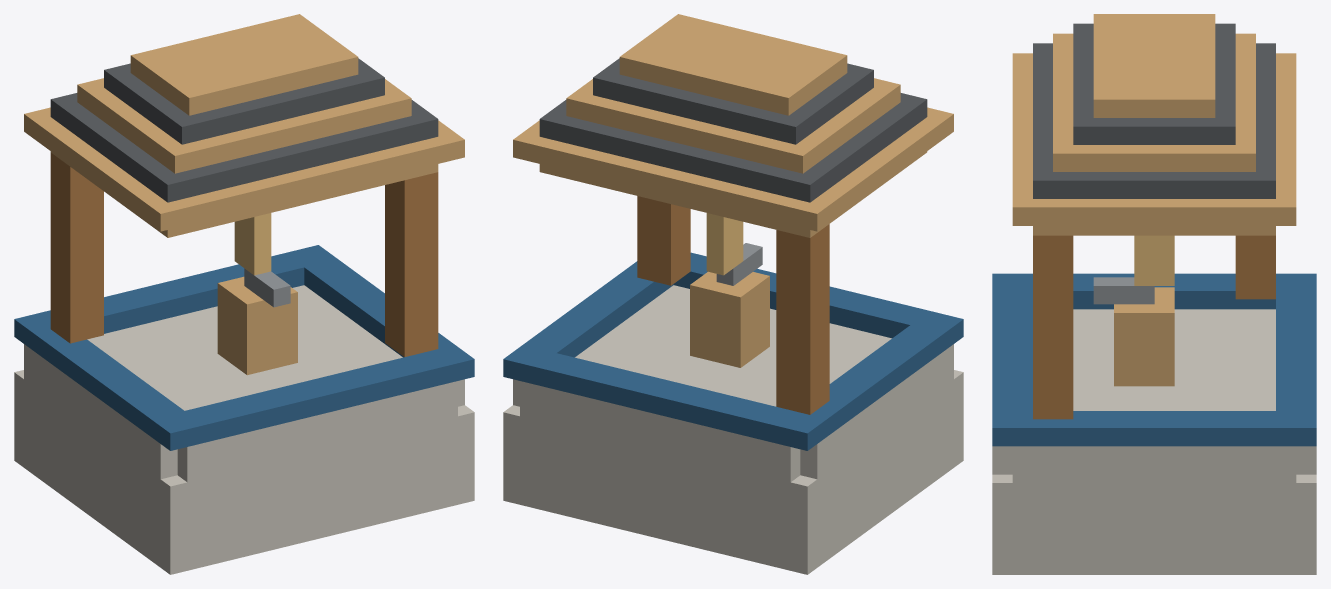
Rendered from hearthvale_prop_village_well.obj.
3 renders of one model, left to right at view 1: azimuth 30°, elevation 25°; view 2: azimuth 150°, elevation 25°; view 3: azimuth 270°, elevation 25°, orthographic. The views are drawn at different scales.
Parts seen in each view (by area): view 1: palette_8, palette_3, palette_9, palette_4, palette_2, palette_23, palette_5; view 2: palette_8, palette_3, palette_9, palette_4, palette_2, palette_23, palette_5; view 3: palette_8, palette_3, palette_9, palette_4, palette_2, palette_23, palette_5.
Part boxes in pixels (x1,y1,x2,y2): palette_8: (14,285,474,574); palette_3: (24,14,464,375); palette_9: (14,245,474,450); palette_4: (50,58,438,202); palette_2: (50,152,438,357); palette_23: (234,213,271,275); palette_5: (244,268,290,307); palette_8: (503,285,963,574); palette_3: (513,14,953,367); palette_9: (503,252,963,450); palette_4: (539,58,927,202); palette_2: (637,196,829,414); palette_23: (706,213,743,275); palette_5: (716,243,762,285); palette_8: (992,309,1316,574); palette_3: (1012,14,1296,386); palette_9: (992,273,1316,446); palette_4: (1033,23,1275,198); palette_2: (1033,235,1275,419); palette_23: (1134,235,1174,285); palette_5: (1093,277,1154,304).
Bounding box in the file's own units: 2.25 × 3 × 2.
